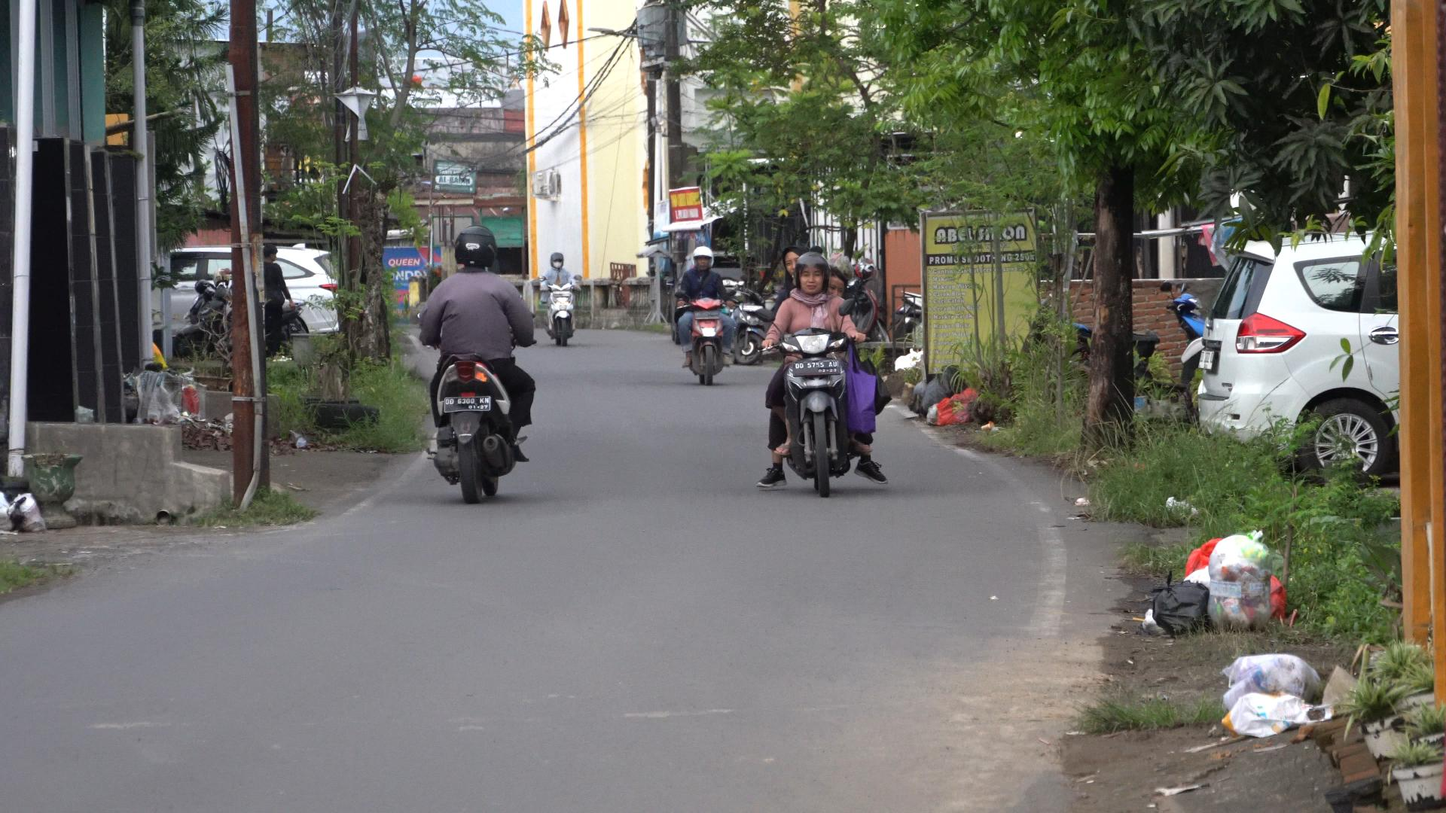number-plate: (791, 361, 842, 376)
